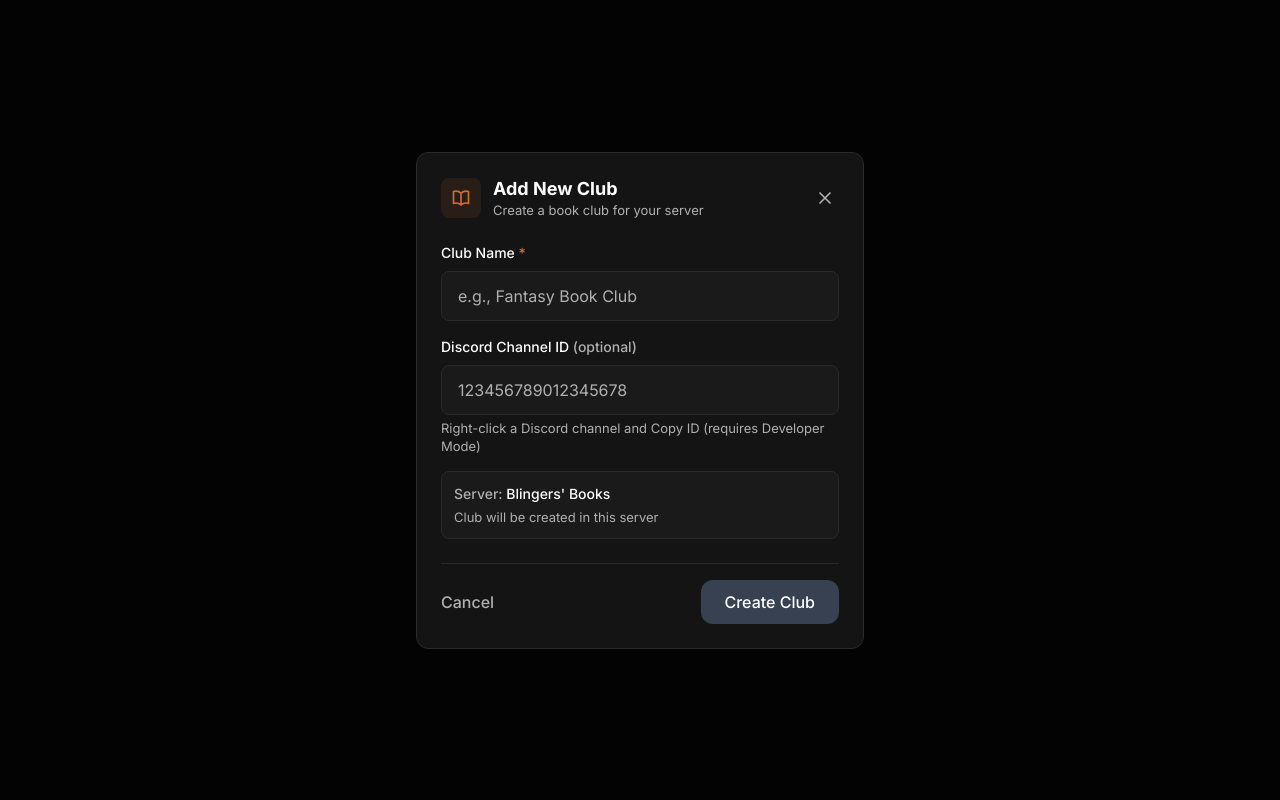
Test: AddClubModal › Form Validation › should enable submit button when club name is filled
Type "My Book Club" into the field with placeholder "e.g., Fantasy Book Club" at (640, 296), box [441,270,839,320]
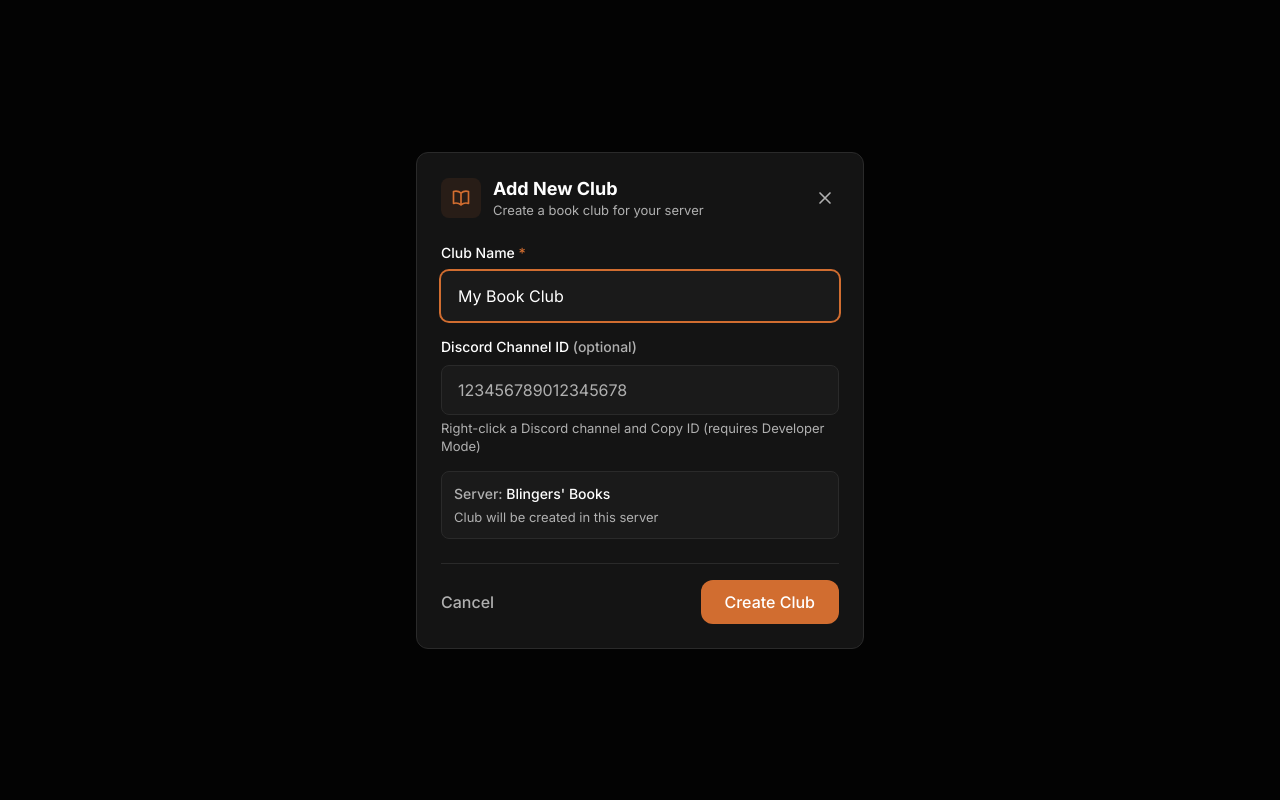
Now the button "Create Club" is enabled, box [700,580,839,624]
